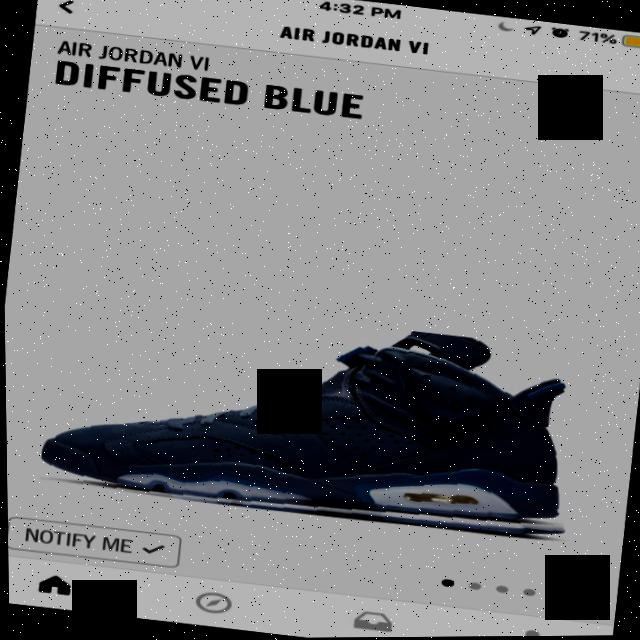shoe: (34, 288, 599, 553)
